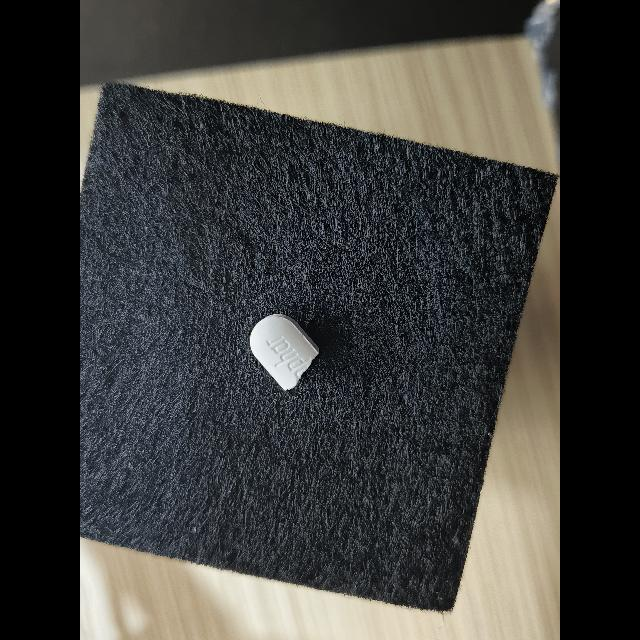Chipped Pill: (250, 314, 319, 391)
